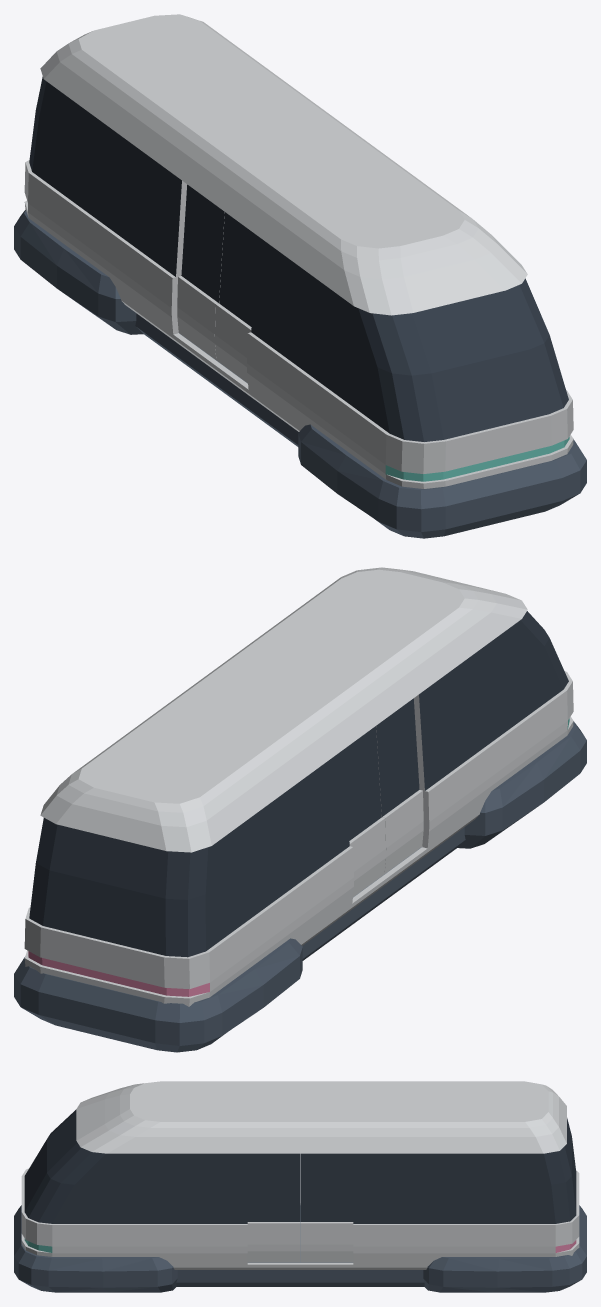
The model's file is guideway-rail-shuttle-3d67d7.glb.
The picture shows the model from 3 angles, top to bottom: view 1: azimuth 30°, elevation 25°; view 2: azimuth 150°, elevation 25°; view 3: azimuth 270°, elevation 25°; orthographic projection. The views are drawn at different scales.
Parts seen in each view (by area): view 1: shuttle-body, door-l-rear-leaf, door-l-front-leaf; view 2: shuttle-body, door-l-front-leaf, door-l-rear-leaf; view 3: shuttle-body, door-r-front-leaf, door-r-rear-leaf.
Part boxes in pixels (left/top/right/bottom): shuttle-body: left=14, top=14, right=586, bottom=538; door-l-rear-leaf: left=177, top=184, right=224, bottom=359; door-l-front-leaf: left=215, top=212, right=257, bottom=383; shuttle-body: left=14, top=567, right=586, bottom=1052; door-l-front-leaf: left=376, top=698, right=423, bottom=873; door-l-rear-leaf: left=343, top=726, right=385, bottom=896; shuttle-body: left=14, top=1081, right=586, bottom=1292; door-r-front-leaf: left=247, top=1153, right=300, bottom=1262; door-r-rear-leaf: left=300, top=1153, right=353, bottom=1262.
Size of the model in its own units: 3.01 by 3.2 by 10.28.
